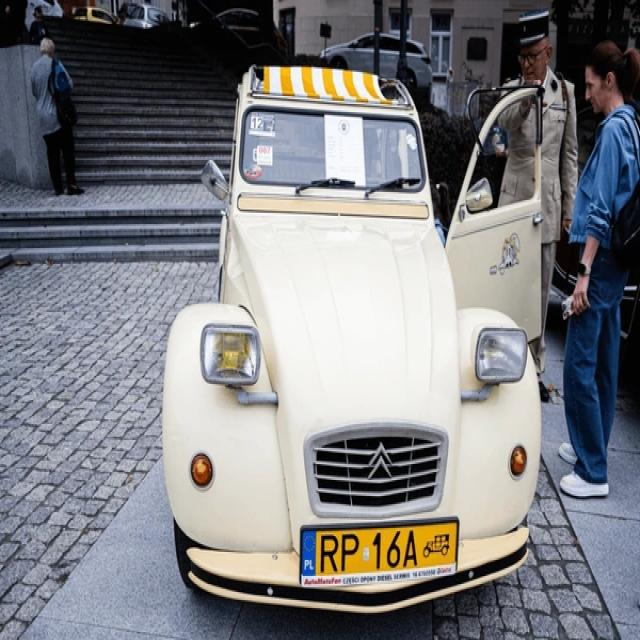citroen: (367, 432, 402, 496)
